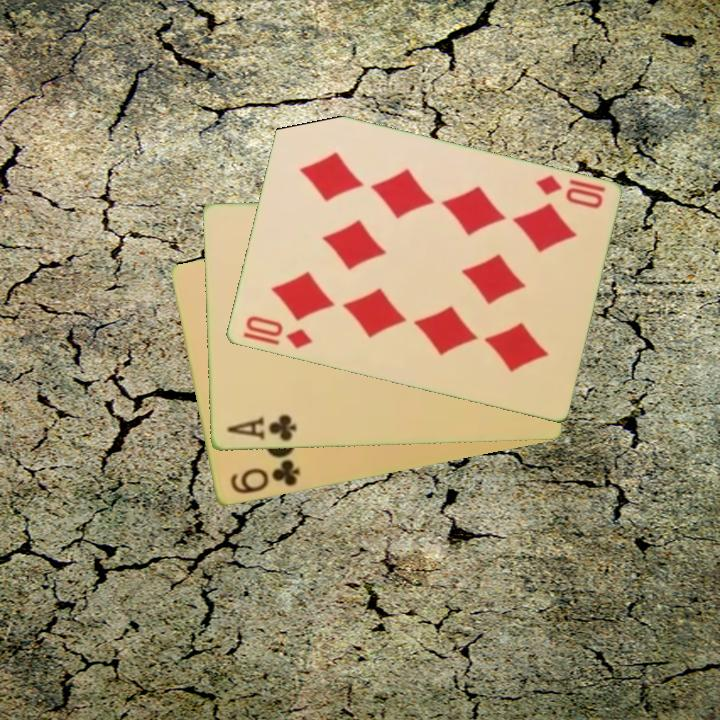10d: (532, 171, 608, 212), (241, 312, 315, 352)
6c: (226, 456, 303, 498)
Ac: (223, 411, 299, 445)
